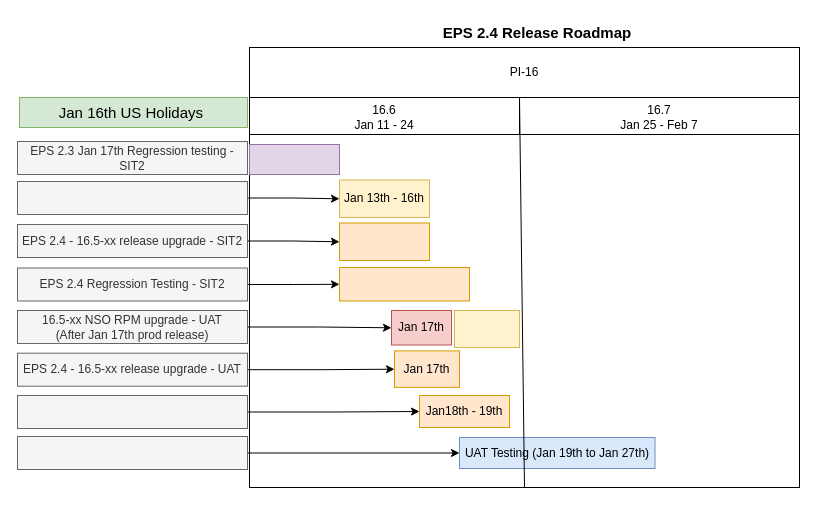
Image size: 818x506. Some labels were removed from this diagram. Each missing label, with the box of its shape:
16.5-xx NSO RPM upgrade and sanity - SIT2: (16, 180, 248, 214)
EPS 2.4 Bank Testing - UAT: (16, 436, 248, 470)
EPS 2.4 Sanity Test - UAT: (16, 394, 248, 428)
Jan 12th: (248, 144, 340, 174)
Jan 13th: (338, 222, 430, 260)
Jan 13th to 19th: (338, 266, 470, 301)
Jan 18th: (454, 310, 520, 348)
